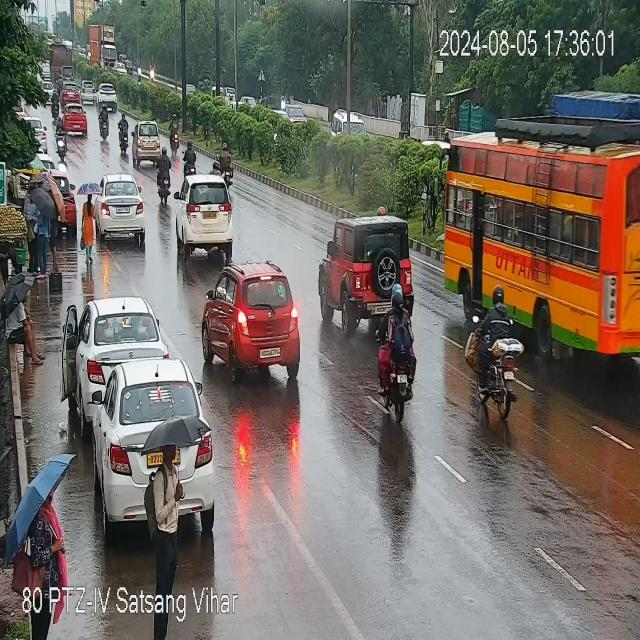2-wheelers: (375, 281, 424, 418), (469, 292, 522, 406), (206, 145, 237, 190), (152, 149, 172, 203), (53, 118, 67, 160), (182, 142, 200, 174), (116, 109, 129, 153), (97, 107, 111, 141), (170, 112, 180, 150), (52, 88, 57, 115)
auto: (176, 174, 239, 253)
bus: (432, 122, 640, 360)
car: (73, 352, 217, 538), (197, 259, 300, 376), (318, 217, 418, 330), (68, 298, 169, 400), (87, 177, 150, 244), (126, 120, 166, 164), (58, 170, 79, 235), (332, 105, 359, 142), (62, 106, 89, 140), (96, 83, 121, 110), (286, 103, 308, 128), (58, 82, 80, 105), (79, 81, 99, 104)
pedestrian: (150, 435, 184, 566), (30, 484, 66, 586), (24, 182, 56, 277), (2, 284, 40, 362), (80, 192, 98, 257)
truck: (88, 26, 117, 70)
